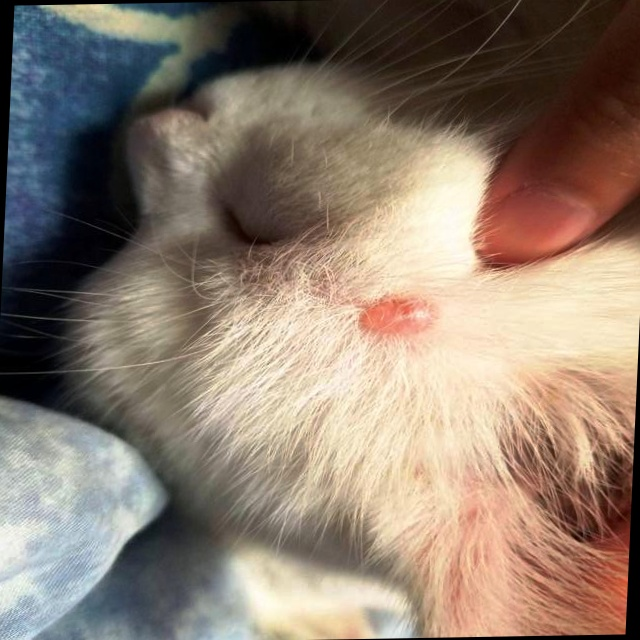lump_and_bump: (359, 297, 433, 336)
